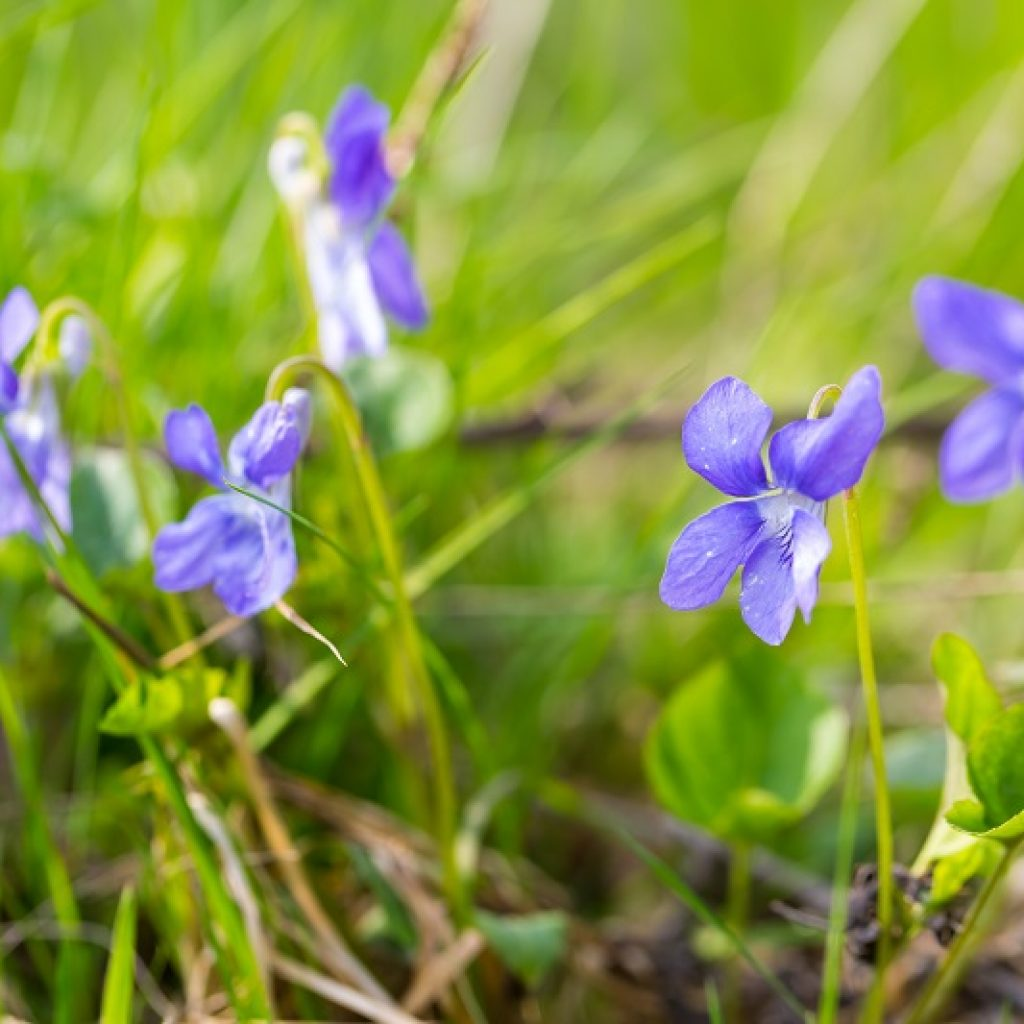violet: (664, 372, 894, 639), (131, 383, 314, 610)
